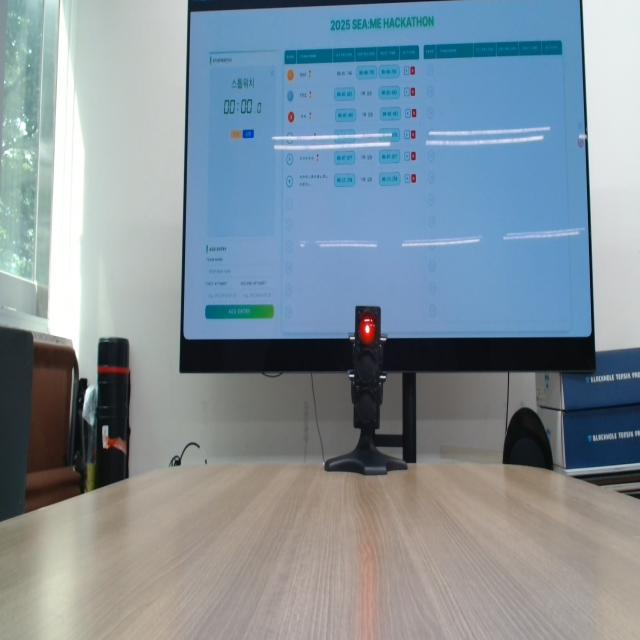red_light: (359, 312, 376, 345)
